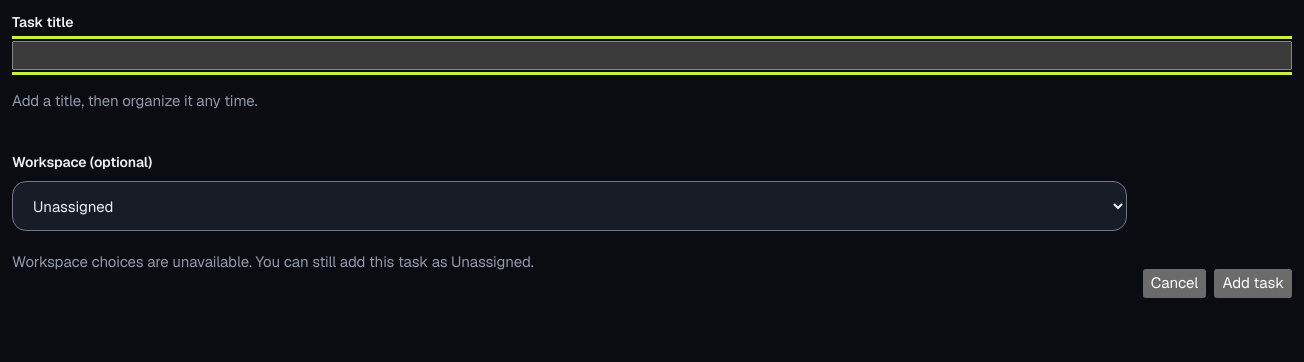
Test: HomeTaskCapture › defaults to Unassigned and explains that capture can continue when workspace choices fail
Check: the dropdown labelled "Workspace (optional)" shows "Unassigned", box [12, 181, 1127, 231]
Check: the text "Workspace choices are unavailable. You can still add this task as Unassigned." is shown, box [12, 252, 534, 271]
Type "Sort receipts" into the field labelled "Task title" at coordinates (652, 55), box [12, 41, 1292, 70]
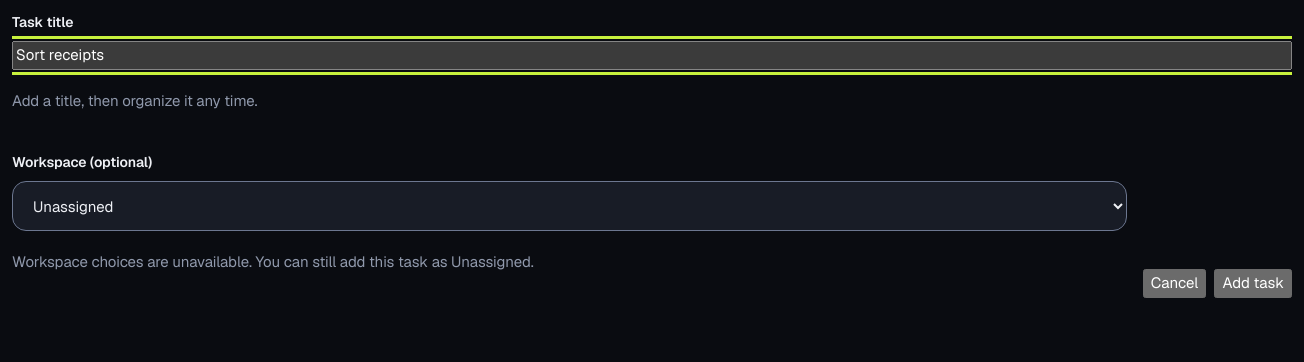
Click the button "Add task" at coordinates (1253, 283), box [1214, 269, 1292, 298]
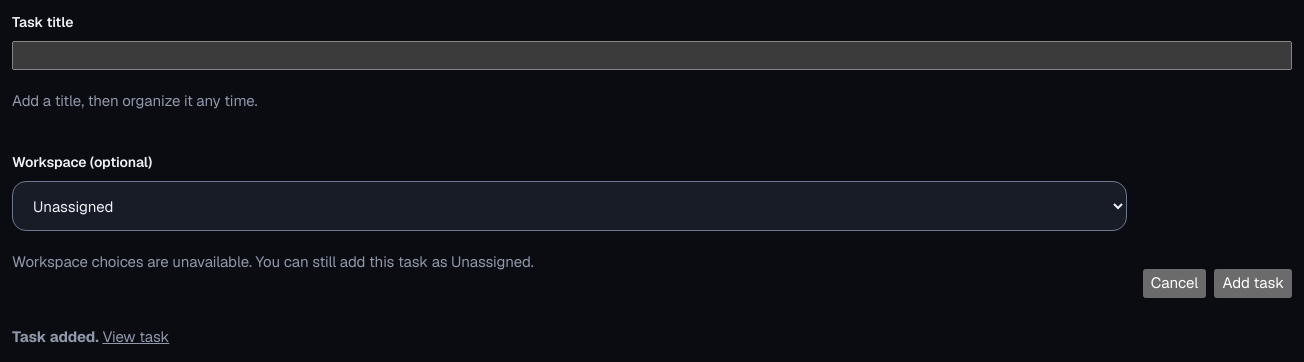
Check: the element with test id "home-task-capture-success" is shown, box [12, 326, 169, 346]
